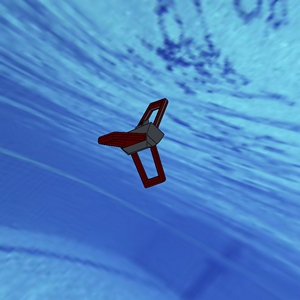submarine: (81, 84, 192, 198)
